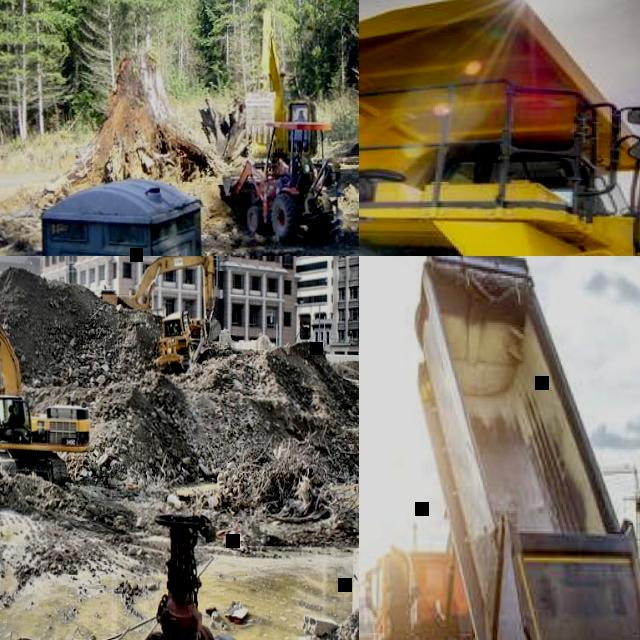machinery: (368, 256, 640, 640), (359, 0, 640, 256), (0, 256, 92, 489), (222, 120, 342, 242), (228, 11, 320, 166), (100, 256, 223, 345), (153, 312, 205, 374)
no_helmet: (8, 405, 12, 411)
person: (4, 404, 14, 426), (296, 111, 306, 121), (170, 324, 178, 336)
vest: (296, 116, 304, 122), (172, 327, 178, 335)
